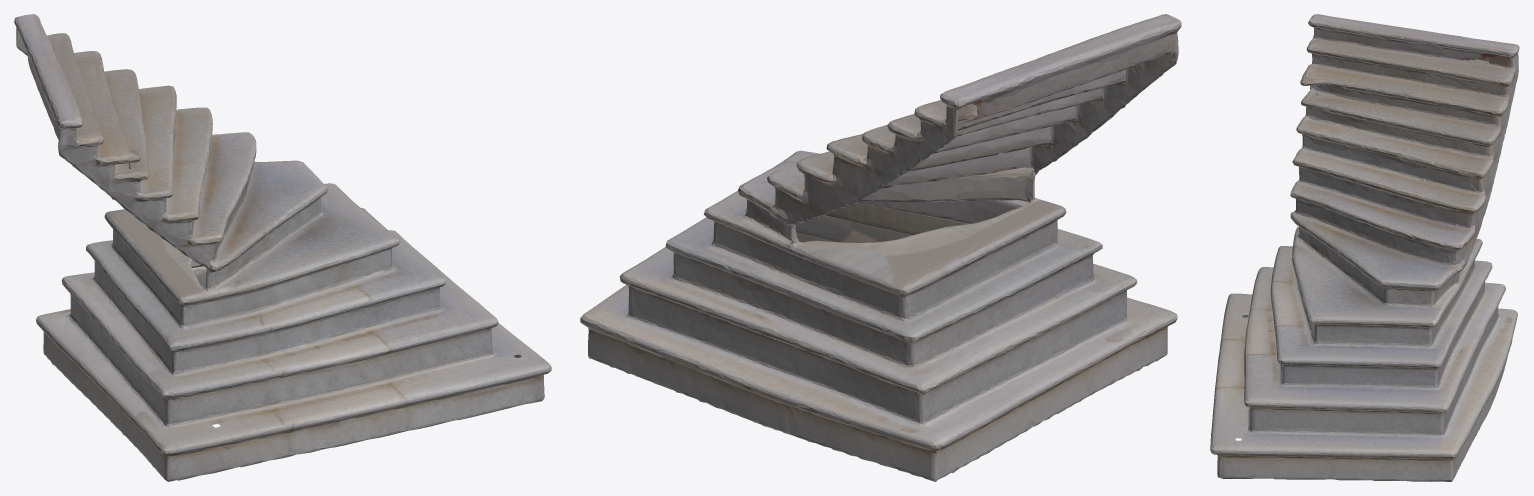
Rendered from mdl_stairs_001.glb.
3 renders of one model, left to right at view 1: azimuth 30°, elevation 25°; view 2: azimuth 150°, elevation 25°; view 3: azimuth 270°, elevation 25°, orthographic. The views are drawn at different scales.
Parts seen in each view (by area): view 1: tmpqdwzbo7y.ply; view 2: tmpqdwzbo7y.ply; view 3: tmpqdwzbo7y.ply.
Part boxes in pixels (x1,y1,x2,y2): tmpqdwzbo7y.ply: (14, 14, 551, 481); tmpqdwzbo7y.ply: (580, 14, 1181, 481); tmpqdwzbo7y.ply: (1210, 14, 1519, 481).
Bounding box in the file's own units: 0.9906 × 0.7318 × 0.7089.
Materials: 1 (1 with a texture image).
